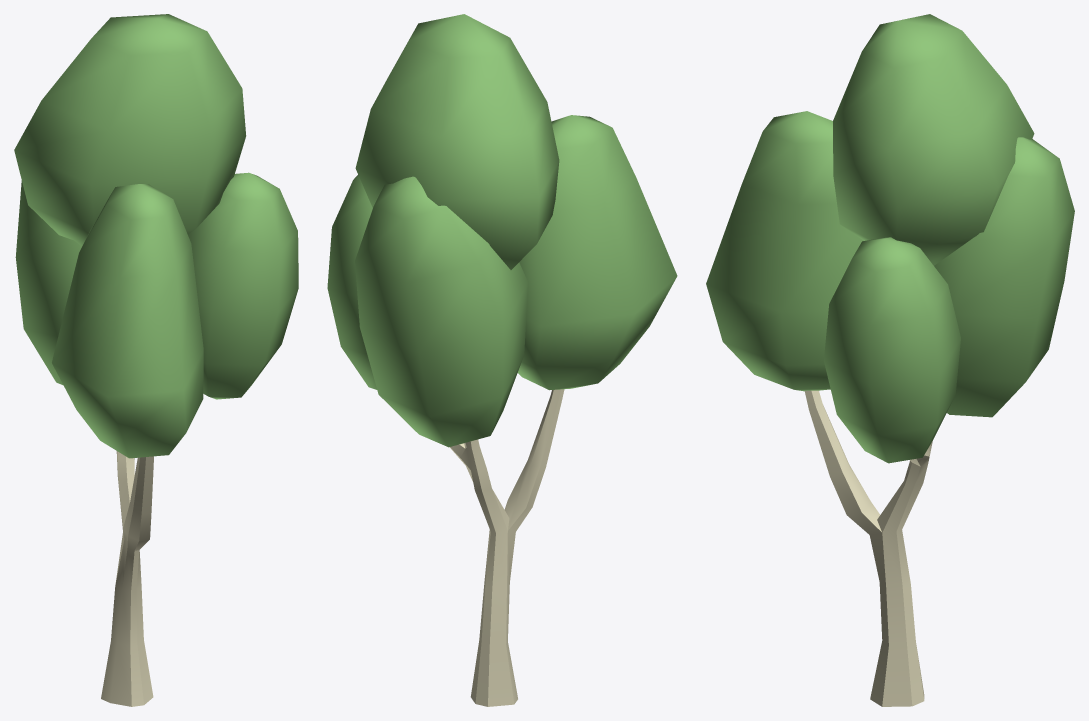
Rendered from Birch_new.fbx.
3 views of the same model, side by side, from view 1: azimuth 30°, elevation 25°; view 2: azimuth 150°, elevation 25°; view 3: azimuth 270°, elevation 25° (orthographic). The views are drawn at different scales.
Parts seen in each view (by area): view 1: polySurface724; view 2: polySurface724; view 3: polySurface724.
Boxes of the visible parts, x1,y1,x2,y2 form: polySurface724: [14, 14, 298, 706]; polySurface724: [327, 14, 677, 706]; polySurface724: [706, 14, 1074, 706].
Size of the model in its own units: 213 by 512 by 248.
